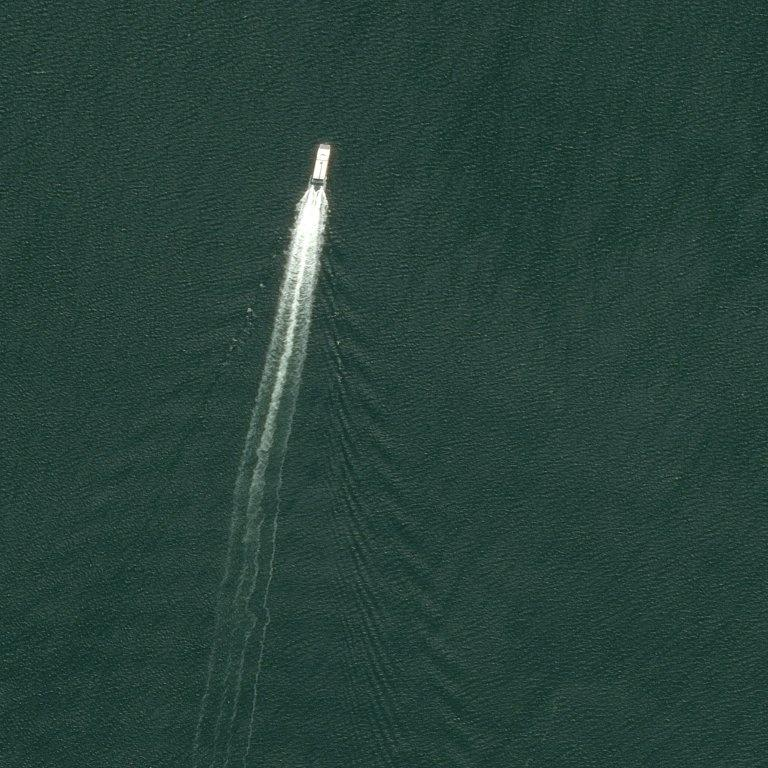ship: (301, 134, 327, 185), (322, 142, 329, 146), (310, 183, 314, 188), (320, 29, 324, 34)
